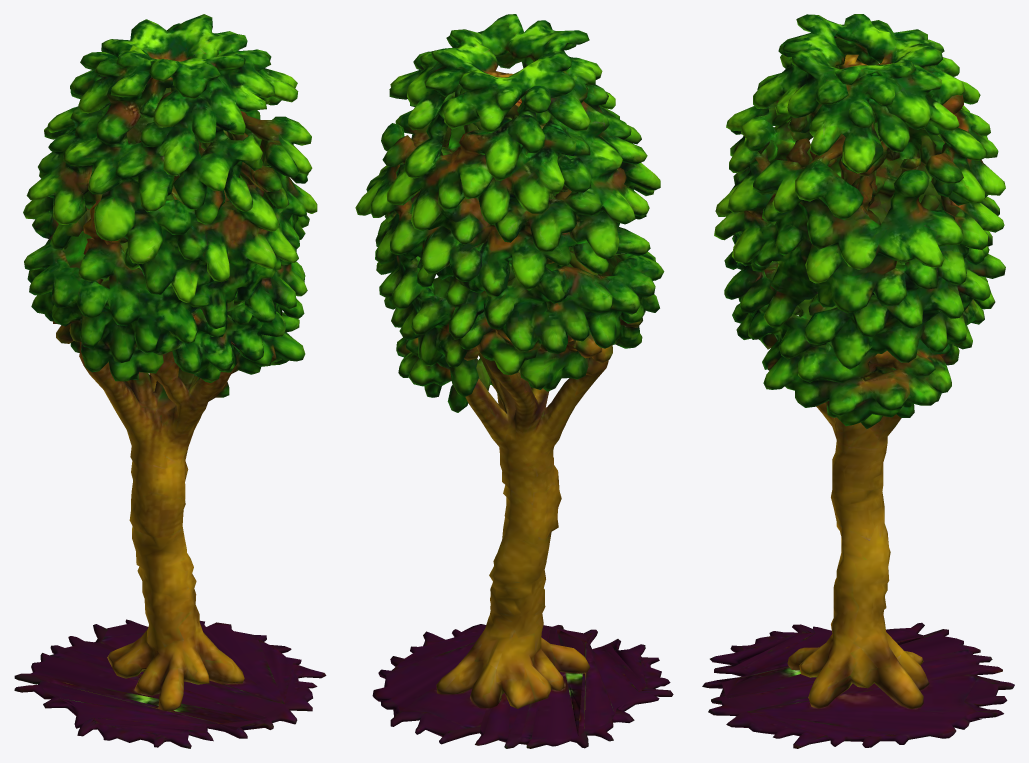
The model's file is emerald_canopy_2.glb.
3 renders of one model, left to right at view 1: azimuth 30°, elevation 25°; view 2: azimuth 150°, elevation 25°; view 3: azimuth 270°, elevation 25°, orthographic.
Bounding box in the file's own units: 0.8141 × 1.9 × 0.818.
1 material, 1 textured.
